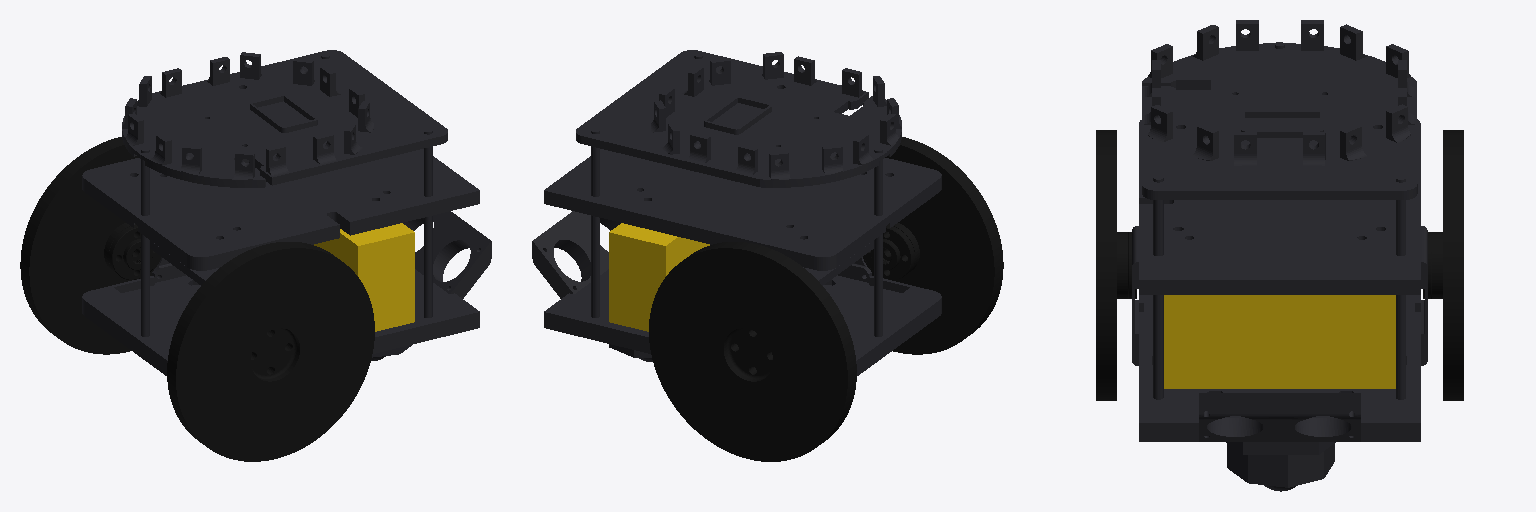
robot.urdf — armada:
<?xml version="1.0"?>
<!-- GÉNÉRÉ par scripts/make_description.py à partir de l'export Fusion 360 : ne pas éditer à la main. -->
<!-- Repère REP-103 : x avant, y gauche, z haut. base_link = milieu de l'axe des roues. Unités SI. -->
<robot name="armada">
  <material name="armada_printed"><color rgba="0.20 0.20 0.22 1"/></material>
  <material name="armada_battery"><color rgba="0.85 0.72 0.10 1"/></material>
  <material name="armada_electronics"><color rgba="0.15 0.50 0.75 1"/></material>
  <material name="armada_wheel"><color rgba="0.12 0.12 0.12 1"/></material>

  <link name="base_footprint"/>
  <joint name="base_footprint_joint" type="fixed">
    <parent link="base_footprint"/><child link="base_link"/>
    <origin xyz="0 0 0.0385963" rpy="0 0 0"/>
  </joint>

  <link name="base_link">
    <inertial>
      <origin xyz="0.0309103 -1.69877e-05 0.0188973" rpy="0 0 0"/>
      <mass value="0.5"/> <!-- estimation, à peser -->
      <inertia ixx="0.000605351" ixy="0" ixz="0" iyy="0.00100097" iyz="0" izz="0.000983622"/>
    </inertial>
    <visual><geometry><mesh filename="package://armada_description/meshes/base_printed.stl"/></geometry><material name="armada_printed"/></visual>
    <visual><geometry><mesh filename="package://armada_description/meshes/base_battery.stl"/></geometry><material name="armada_battery"/></visual>
    <visual><geometry><mesh filename="package://armada_description/meshes/base_electronics.stl"/></geometry><material name="armada_electronics"/></visual>
    <collision><origin xyz="0.0398821 -4.99992e-05 0.00939784" rpy="0 0 0"/><geometry><box size="0.127799 0.08 0.053"/></geometry></collision>
    <collision><origin xyz="0.0267326 -0.000149999 0.0629478" rpy="0 0 0"/><geometry><box size="0.0995 0.0784 0.0141"/></geometry></collision>
  </link>

  <link name="wheel_left_link">
    <inertial>
      <origin xyz="0 0 0" rpy="0 0 0"/>
      <mass value="0.035"/> <!-- estimation, à peser -->
      <inertia ixx="1.32709e-05" ixy="0" ixz="0" iyy="2.60693e-05" iyz="0" izz="1.32709e-05"/>
    </inertial>
    <visual><geometry><mesh filename="package://armada_description/meshes/wheel_left.stl"/></geometry><material name="armada_wheel"/></visual>
    <collision><origin xyz="0 0 0" rpy="1.5708 0 0"/><geometry><cylinder radius="0.0385963" length="0.009"/></geometry></collision>
  </link>
  <joint name="wheel_left_joint" type="continuous">
    <parent link="base_link"/><child link="wheel_left_link"/>
    <origin xyz="0 0.04775 0" rpy="0 0 0"/>
    <axis xyz="0 1 0"/> <!-- rotation positive = le robot avance -->
    <limit effort="2.5" velocity="5"/>
  </joint>

  <link name="wheel_right_link">
    <inertial>
      <origin xyz="0 0 0" rpy="0 0 0"/>
      <mass value="0.035"/> <!-- estimation, à peser -->
      <inertia ixx="1.32709e-05" ixy="0" ixz="0" iyy="2.60693e-05" iyz="0" izz="1.32709e-05"/>
    </inertial>
    <visual><geometry><mesh filename="package://armada_description/meshes/wheel_right.stl"/></geometry><material name="armada_wheel"/></visual>
    <collision><origin xyz="0 0 0" rpy="1.5708 0 0"/><geometry><cylinder radius="0.0385963" length="0.009"/></geometry></collision>
  </link>
  <joint name="wheel_right_joint" type="continuous">
    <parent link="base_link"/><child link="wheel_right_link"/>
    <origin xyz="-1.05491e-05 -0.04775 -6.9952e-06" rpy="0 0 0"/>
    <axis xyz="0 1 0"/> <!-- rotation positive = le robot avance -->
    <limit effort="2.5" velocity="5"/>
  </joint>

  <link name="caster_link">
    <inertial>
      <origin xyz="0 0 0" rpy="0 0 0"/>
      <mass value="0.02"/>
      <inertia ixx="4.5e-07" ixy="0" ixz="0" iyy="4.5e-07" iyz="0" izz="4.5e-07"/>
    </inertial>
    <visual><geometry><mesh filename="package://armada_description/meshes/caster.stl"/></geometry><material name="armada_printed"/></visual>
    <collision><geometry><sphere radius="0.0075"/></geometry></collision>
  </link>
  <joint name="caster_joint" type="fixed">
    <parent link="base_link"/><child link="caster_link"/>
    <origin xyz="0.0676914 0.000269113 -0.0311022" rpy="0 0 0"/> <!-- origine = centre de la bille -->
  </joint>

  <!-- Anneau de 8 VL53L0X : x du repère = axe optique (vers l'extérieur) ; canaux PCA9548A 0..7 = F FL L BL B BR R FR -->
  <link name="lidar_link"/>
  <joint name="lidar_link_joint" type="fixed">
    <parent link="base_link"/><child link="lidar_link"/>
    <origin xyz="0.0192271 -0.000103988 0.0643814" rpy="0 0 0"/> <!-- centre de l'anneau : repère du LaserScan fusionné -->
  </joint>
  <link name="tof_f_link"/>
  <joint name="tof_f_link_joint" type="fixed">
    <parent link="base_link"/><child link="tof_f_link"/>
    <origin xyz="0.0547993 -8.18603e-05 0.0643814" rpy="0 0 0"/>
  </joint>
  <link name="tof_fl_link"/>
  <joint name="tof_fl_link_joint" type="fixed">
    <parent link="base_link"/><child link="tof_fl_link"/>
    <origin xyz="0.0452794 0.0257982 0.0643814" rpy="0 0 0.785398"/>
  </joint>
  <link name="tof_l_link"/>
  <joint name="tof_l_link_joint" type="fixed">
    <parent link="base_link"/><child link="tof_l_link"/>
    <origin xyz="0.0194315 0.0334503 0.0643814" rpy="0 0 1.5708"/>
  </joint>
  <link name="tof_bl_link"/>
  <joint name="tof_bl_link_joint" type="fixed">
    <parent link="base_link"/><child link="tof_bl_link"/>
    <origin xyz="-0.00655156 0.025869 0.0643814" rpy="0 0 2.35619"/>
  </joint>
  <link name="tof_b_link"/>
  <joint name="tof_b_link_joint" type="fixed">
    <parent link="base_link"/><child link="tof_b_link"/>
    <origin xyz="-0.0173007 -8.18601e-05 0.0643814" rpy="0 0 3.14159"/>
  </joint>
  <link name="tof_br_link"/>
  <joint name="tof_br_link_joint" type="fixed">
    <parent link="base_link"/><child link="tof_br_link"/>
    <origin xyz="-0.00662227 -0.0261034 0.0643814" rpy="0 0 -2.35619"/>
  </joint>
  <link name="tof_r_link"/>
  <joint name="tof_r_link_joint" type="fixed">
    <parent link="base_link"/><child link="tof_r_link"/>
    <origin xyz="0.0194315 -0.0336497 0.0643814" rpy="0 0 -1.5708"/>
  </joint>
  <link name="tof_fr_link"/>
  <joint name="tof_fr_link_joint" type="fixed">
    <parent link="base_link"/><child link="tof_fr_link"/>
    <origin xyz="0.0453501 -0.0260327 0.0643814" rpy="0 0 -0.785398"/>
  </joint>

  <!-- HC-SR04 de détection du sol : incliné vers le bas (pitch positif = vers le sol), x = axe du capteur -->
  <link name="ultrasonic_link"/>
  <joint name="ultrasonic_link_joint" type="fixed">
    <parent link="base_link"/><child link="ultrasonic_link"/>
    <origin xyz="0.0979063 -0.000191649 -0.00881557" rpy="0 0.785398 0"/>
  </joint>

  <!-- IMU BNO055 : POSITION ET ORIENTATION SUPPOSÉES (carte plate au centre du plateau sup., axes alignés sur le robot) -->
  <link name="imu_link"/>
  <joint name="imu_link_joint" type="fixed">
    <parent link="base_link"/><child link="imu_link"/>
    <origin xyz="0.0111329 8.19205e-05 0.0599828" rpy="0 0 0"/>
  </joint>
</robot>

--- Render facts (derived) ---
The picture shows the robot from 3 angles, left to right: view 1: azimuth 30°, elevation 25°; view 2: azimuth 150°, elevation 25°; view 3: azimuth 270°, elevation 25°; orthographic projection.
Model armada with 16 links and 15 joints (2 continuous, 13 fixed), rooted at base_footprint, posed every joint at zero.
Links seen in each view (by area): view 1: base_link, wheel_right_link, wheel_left_link; view 2: base_link, wheel_left_link, wheel_right_link; view 3: base_link, wheel_left_link, wheel_right_link, caster_link.
Boxes of the visible links, bbox=[...] form: base_link: bbox=[82, 50, 491, 375]; wheel_right_link: bbox=[167, 242, 374, 461]; wheel_left_link: bbox=[20, 137, 160, 354]; base_link: bbox=[532, 50, 941, 375]; wheel_left_link: bbox=[649, 242, 856, 461]; wheel_right_link: bbox=[863, 137, 1003, 354]; base_link: bbox=[1132, 20, 1427, 441]; wheel_left_link: bbox=[1423, 130, 1463, 400]; wheel_right_link: bbox=[1096, 130, 1136, 400]; caster_link: bbox=[1226, 442, 1335, 491].
Bounding box of the posed robot: 0.1392 × 0.1045 × 0.1062 m (x, y, z).
Meshes: 6 distinct files referenced, 5 mesh visuals loaded (5 binary STL); not drawn: 1 (reference not matched to a file when rendering).
